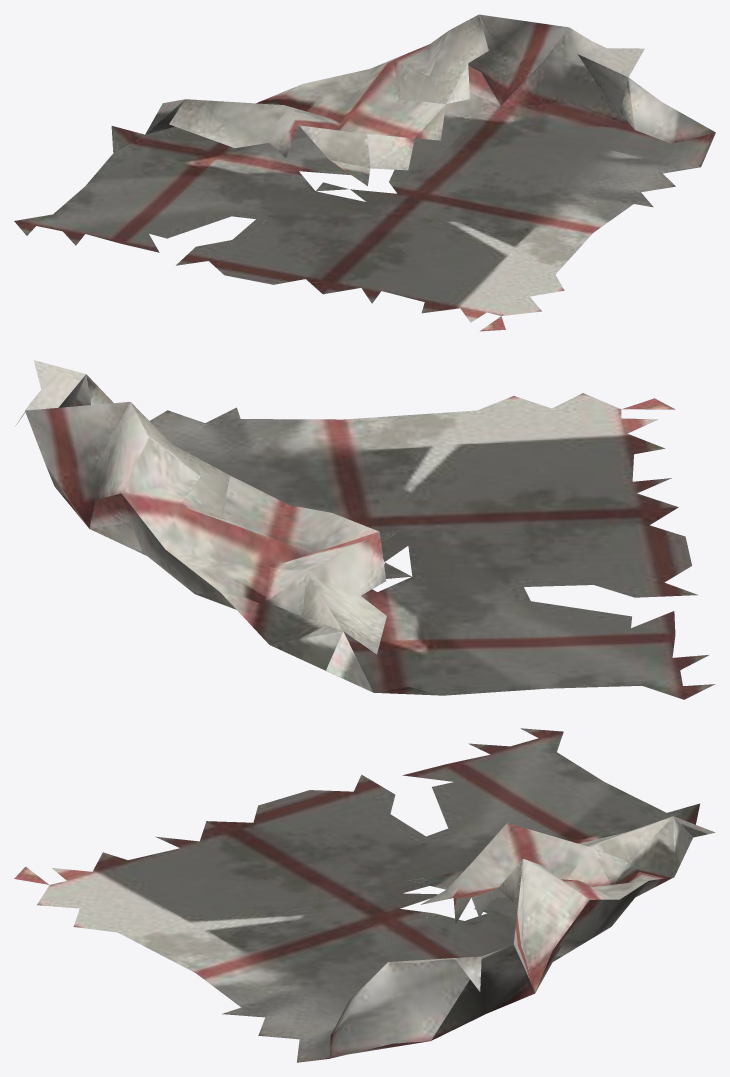
File: rag_kitchen_cloth_0_lod1_web.glb
3 views of the same model, one above another, from view 1: azimuth 30°, elevation 25°; view 2: azimuth 150°, elevation 25°; view 3: azimuth 270°, elevation 25° (orthographic). The views are drawn at different scales.
Visible parts, largest first — view 1: rag_kitchen_cloth_0_Cloth; view 2: rag_kitchen_cloth_0_Cloth; view 3: rag_kitchen_cloth_0_Cloth.
Part boxes in pixels (x1,y1,x2,y2): rag_kitchen_cloth_0_Cloth: [14, 14, 715, 331]; rag_kitchen_cloth_0_Cloth: [16, 360, 715, 699]; rag_kitchen_cloth_0_Cloth: [14, 728, 715, 1062].
Size of the model in its own units: 0.3833 by 0.0679 by 0.327.
1 material, 1 textured.
